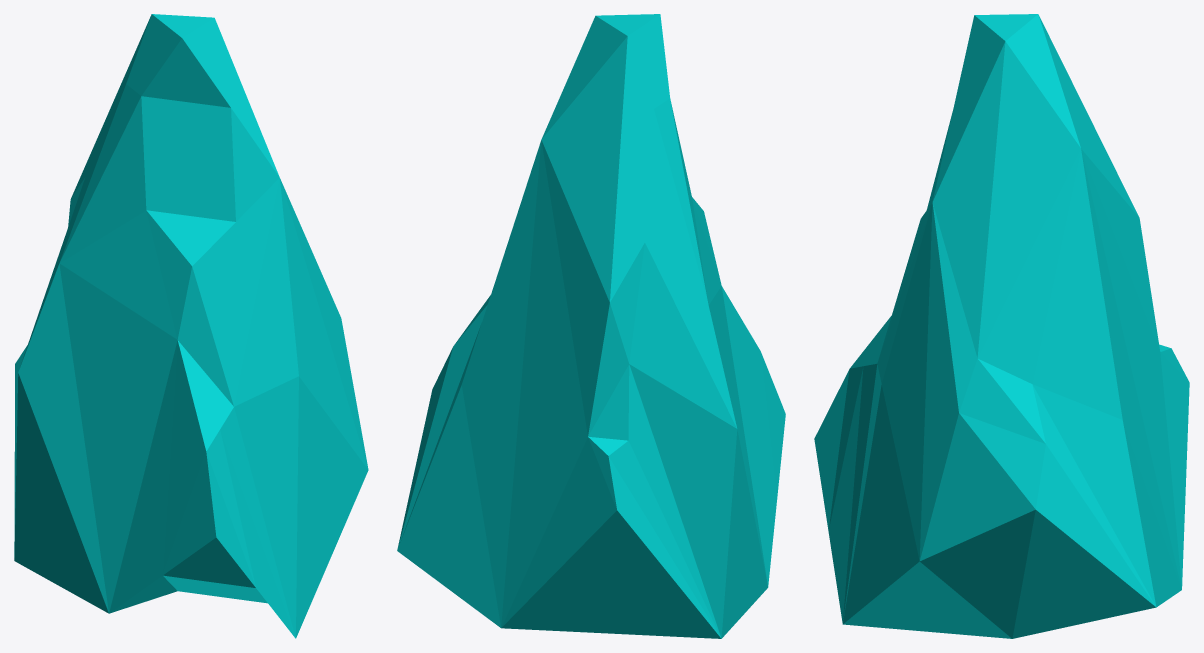
File: spruce_leaves.fbx
3 views of the same model, side by side, from view 1: azimuth 30°, elevation 25°; view 2: azimuth 150°, elevation 25°; view 3: azimuth 270°, elevation 25° (orthographic). The views are drawn at different scales.
Visible parts, largest first — view 1: GeoSphere0; view 2: GeoSphere0; view 3: GeoSphere0.
Part boxes in pixels (x1=…): GeoSphere0: x1=14, y1=14, x2=368, y2=638; GeoSphere0: x1=397, y1=14, x2=785, y2=638; GeoSphere0: x1=814, y1=14, x2=1189, y2=638.
Size of the model in its own units: 262 by 459 by 267.
